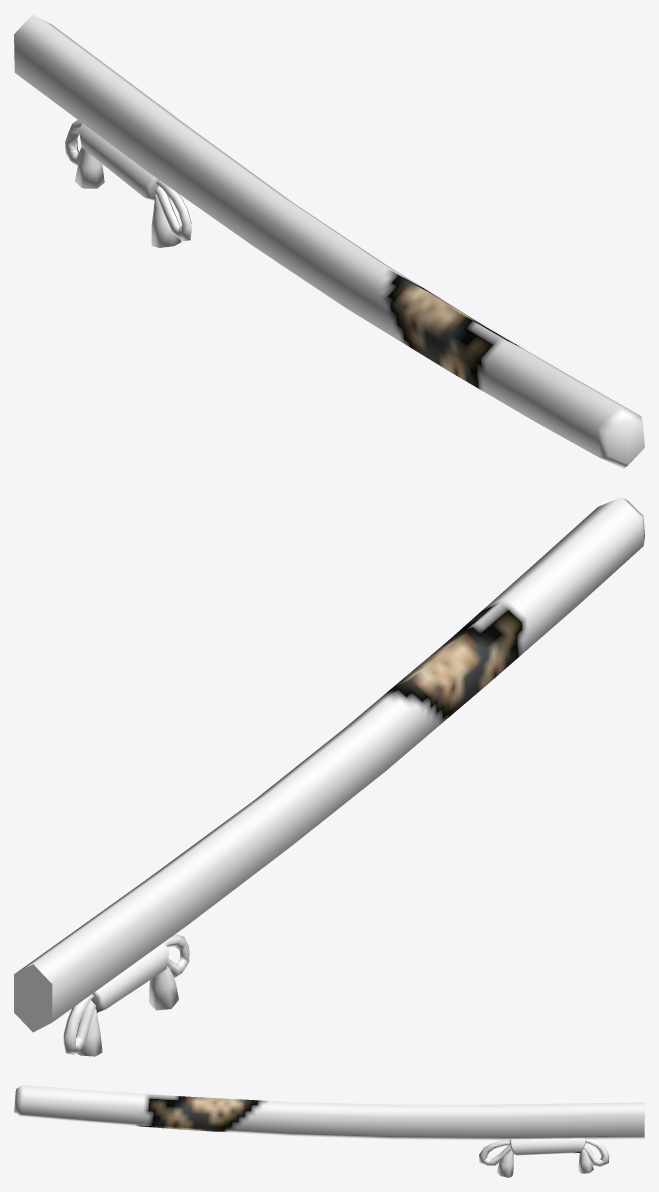
Rendered from shotogatana_sheath.obj.
3 renders of one model, top to bottom at view 1: azimuth 30°, elevation 25°; view 2: azimuth 150°, elevation 25°; view 3: azimuth 270°, elevation 25°, orthographic. The views are drawn at different scales.
Visible parts, largest first — view 1: Siya; view 2: Siya; view 3: Siya.
Part boxes in pixels (x1,y1,x2,y2): Siya: (14,14,644,468); Siya: (14,497,644,1056); Siya: (14,1085,644,1177).
Size of the model in its own units: 0.0981 by 0.3656 by 2.3.
